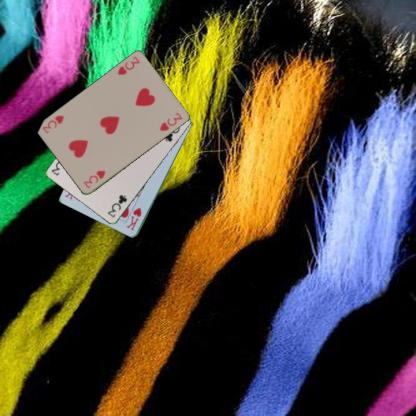3c: (105, 192, 128, 219)
3h: (81, 167, 107, 190), (115, 54, 141, 77)
Kh: (124, 205, 142, 232)
